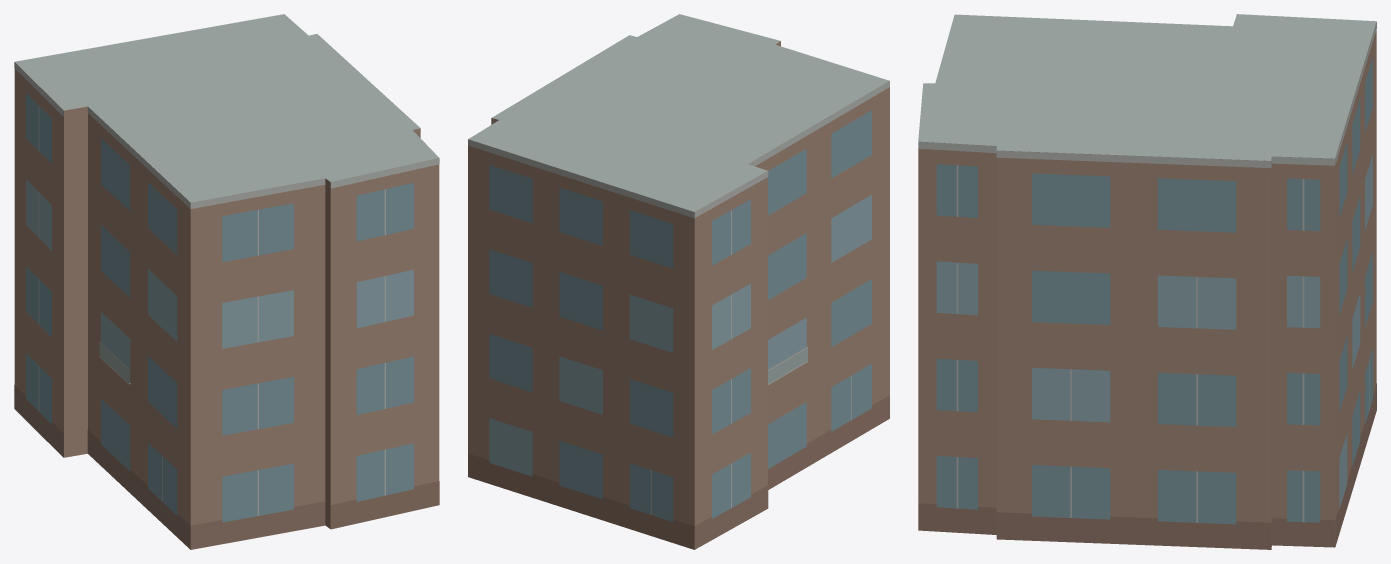
The model's file is survey-upis-32989971.glb.
3 views of the same model, side by side, from view 1: azimuth 30°, elevation 25°; view 2: azimuth 150°, elevation 25°; view 3: azimuth 270°, elevation 25° (orthographic). The views are drawn at different scales.
Parts seen in each view (by area): view 1: survey-upis-32989971.tmp; view 2: survey-upis-32989971.tmp; view 3: survey-upis-32989971.tmp.
Boxes of the visible parts, box(x1,y1,x2,y2) form: survey-upis-32989971.tmp: box(14, 14, 439, 549); survey-upis-32989971.tmp: box(468, 14, 889, 549); survey-upis-32989971.tmp: box(918, 14, 1376, 549).
Bounding box in the file's own units: 10.71 × 13.2 × 14.12.
